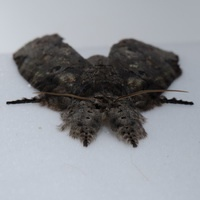insect: (7, 34, 192, 146), (6, 90, 193, 146)
